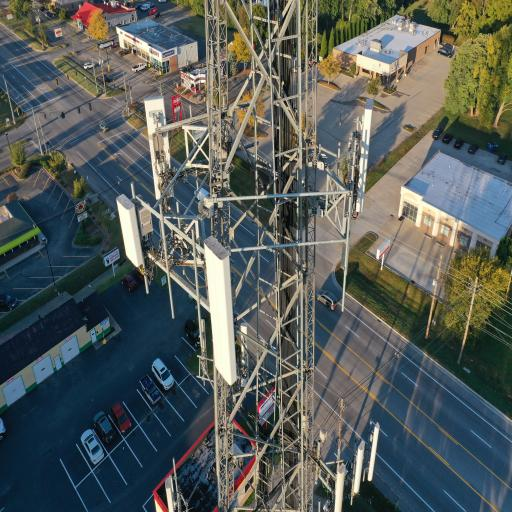supporting_tower: (116, 0, 386, 512), (264, 0, 318, 512)
